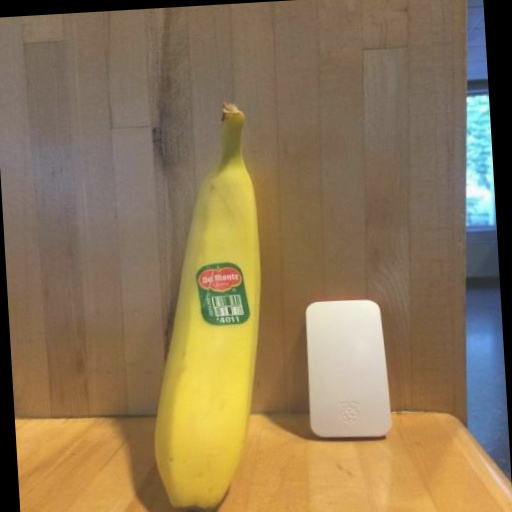fruit: (155, 105, 260, 512)
